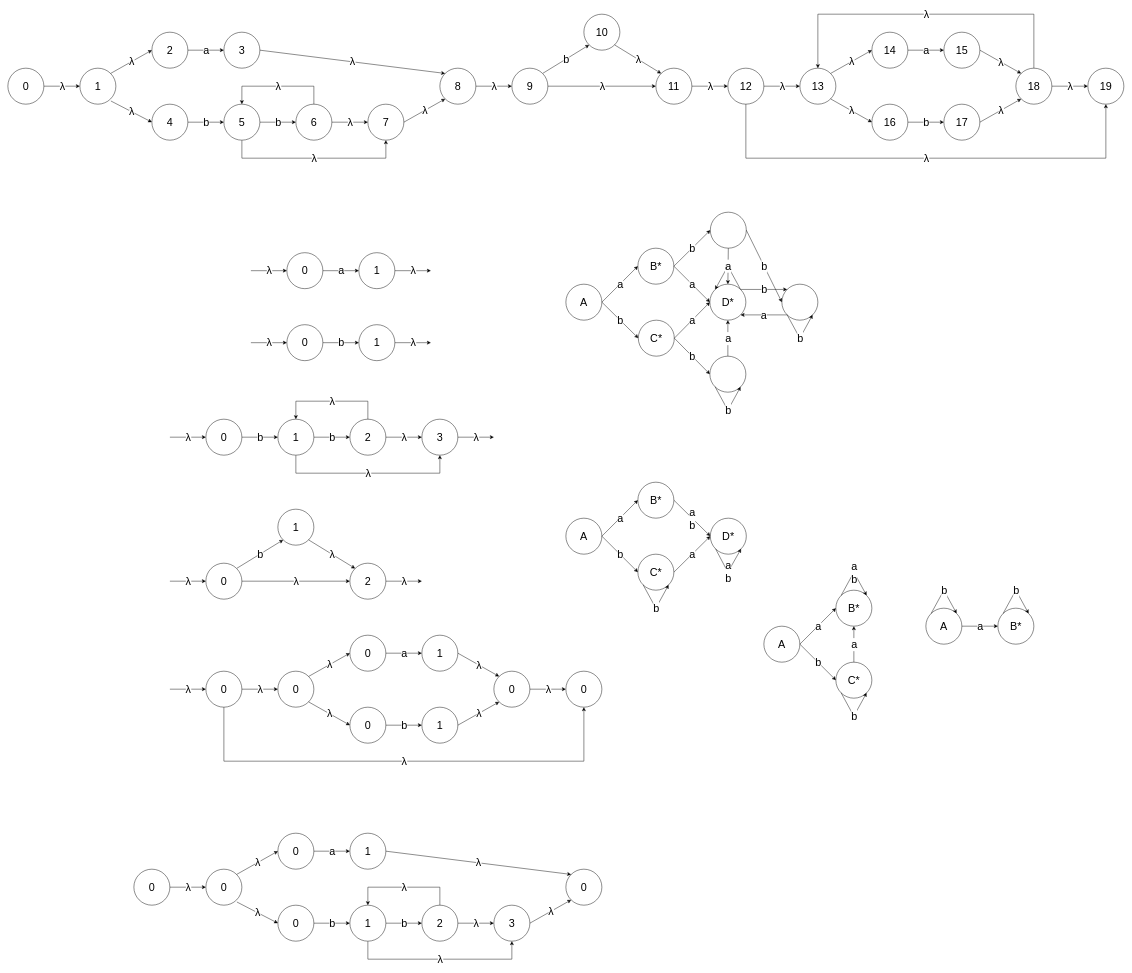
Image size: 1132x973. Some labels were removed from this diagram. Here are the shapes that lost their labels. From the top down, the box of each, then its label:
(710, 212, 746, 248): E*
(781, 284, 818, 320): G*
(709, 356, 746, 392): F*
